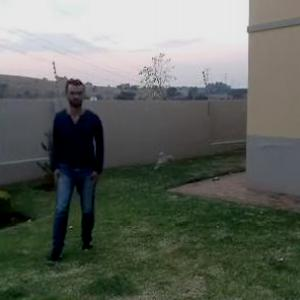follow: (63, 73, 111, 244)
